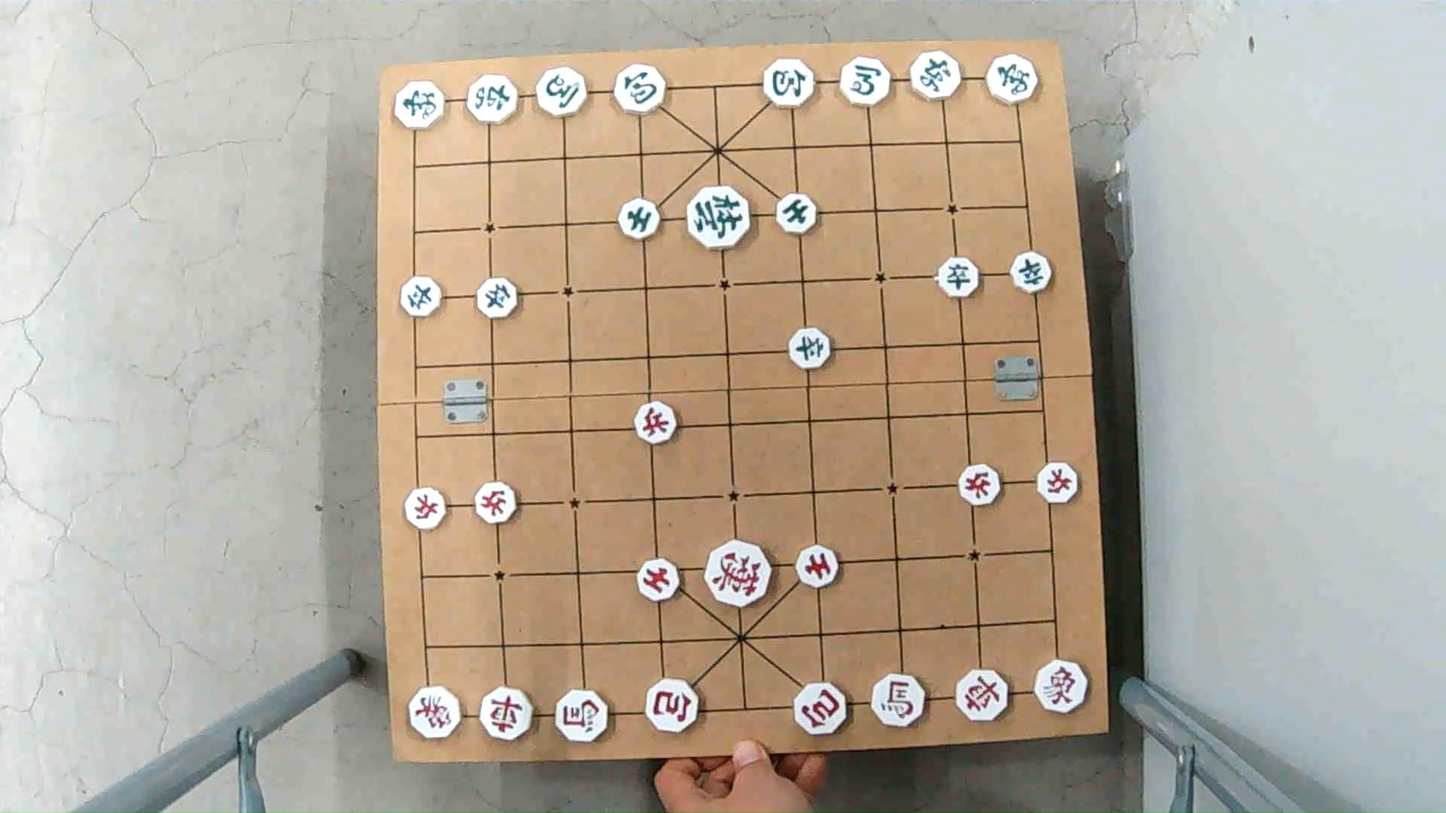cha_green: (908, 55, 964, 101), (468, 77, 523, 123)
cha_red: (476, 690, 537, 740), (953, 672, 1011, 723)
jol_green: (786, 331, 834, 369), (475, 279, 524, 315), (1009, 254, 1056, 291), (935, 260, 983, 296), (399, 282, 447, 316)
jol_red: (472, 483, 523, 521), (399, 489, 448, 527), (630, 406, 680, 443), (1033, 464, 1082, 501), (954, 466, 1004, 502)
ma_green: (530, 65, 589, 116), (837, 62, 897, 106)
ma_red: (869, 674, 932, 723), (554, 692, 615, 741)
po_green: (761, 60, 819, 108), (612, 69, 669, 113)
po_red: (642, 684, 703, 732), (793, 685, 851, 733)
sa_green: (775, 193, 822, 234), (618, 199, 667, 236)
sa_red: (632, 562, 682, 600), (796, 547, 839, 588)
sang_green: (389, 81, 446, 127), (981, 59, 1036, 102)
sang_red: (1030, 662, 1091, 711), (407, 689, 467, 737)
wang_green: (685, 190, 755, 244)
wang_red: (702, 541, 773, 606)
